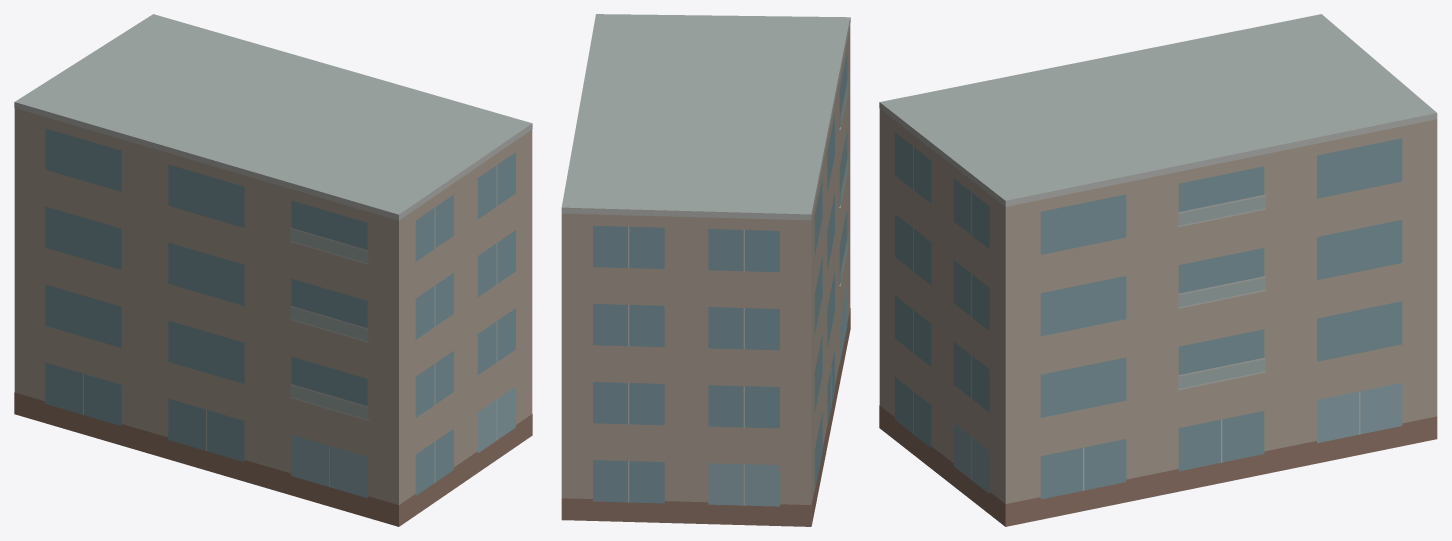
File: survey-upis-32738152.glb
3 renders of one model, left to right at view 1: azimuth 30°, elevation 25°; view 2: azimuth 150°, elevation 25°; view 3: azimuth 270°, elevation 25°, orthographic. The views are drawn at different scales.
Parts seen in each view (by area): view 1: survey-upis-32738152.tmp; view 2: survey-upis-32738152.tmp; view 3: survey-upis-32738152.tmp.
Boxes of the visible parts, bbox=[...] form: survey-upis-32738152.tmp: bbox=[14, 14, 532, 526]; survey-upis-32738152.tmp: bbox=[561, 14, 850, 526]; survey-upis-32738152.tmp: bbox=[879, 14, 1437, 526].
Bounding box in the file's own units: 15.87 × 12.9 × 20.01.
